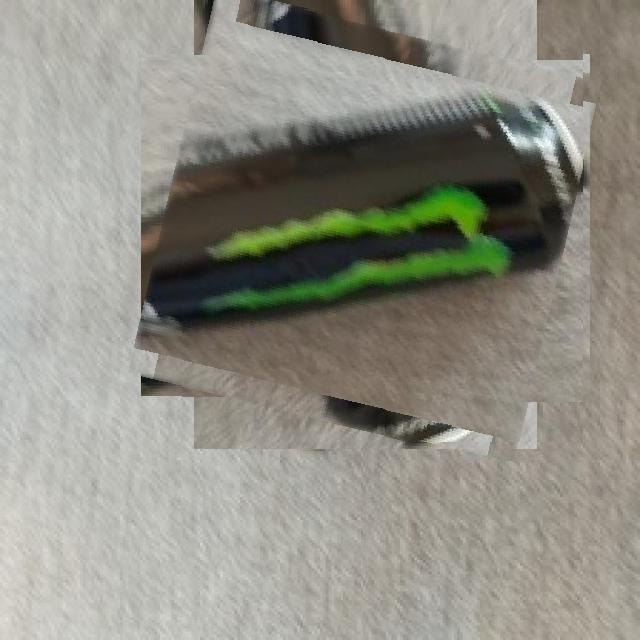recyclable: (148, 7, 583, 442)
